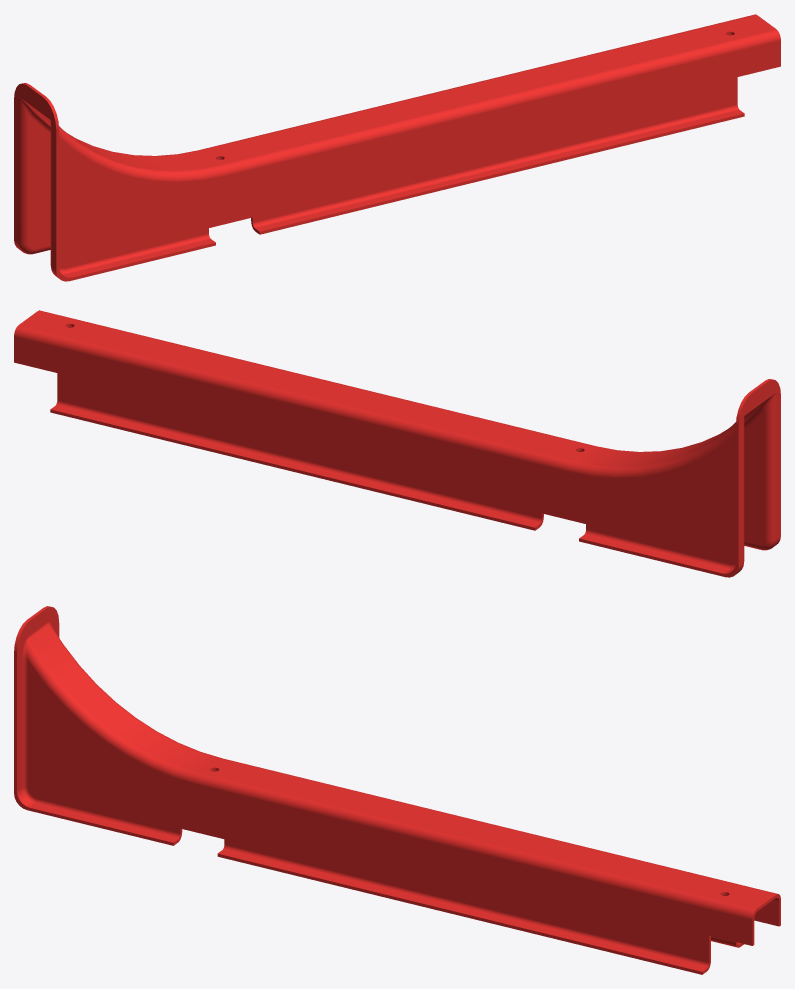
File: cherokee-trim-piece.glb
3 views of the same model, one above another, from view 1: azimuth 30°, elevation 25°; view 2: azimuth 150°, elevation 25°; view 3: azimuth 330°, elevation 25° (orthographic).
Parts seen in each view (by area): view 1: Body2; view 2: Body2; view 3: Body2.
Boxes of the visible parts, x1,y1,x2,y2 form: Body2: (14,14,780,281); Body2: (14,310,780,577); Body2: (14,606,780,974).
Bounding box in the file's own units: 0.375 × 0.087 × 0.0375.
